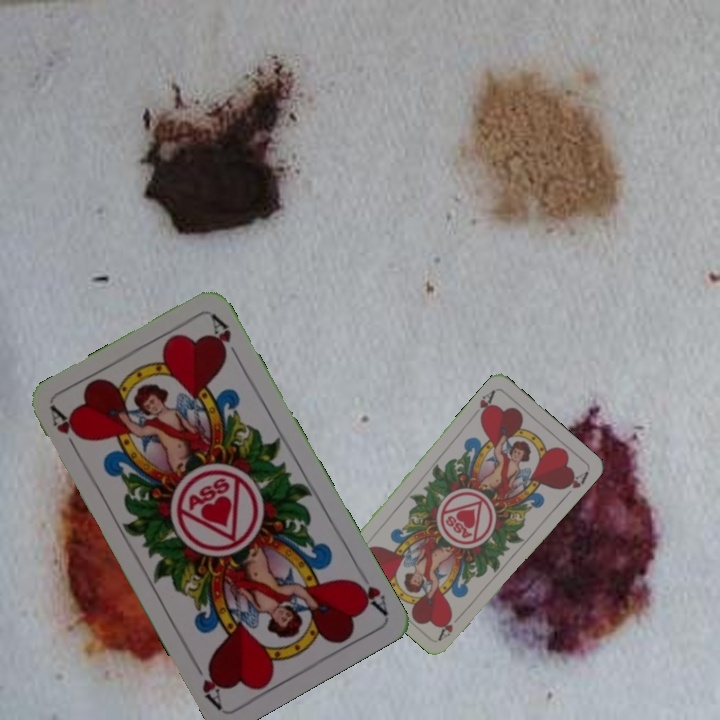HA: (46, 403, 84, 458), (347, 575, 390, 617), (435, 608, 466, 643), (468, 386, 498, 422)
